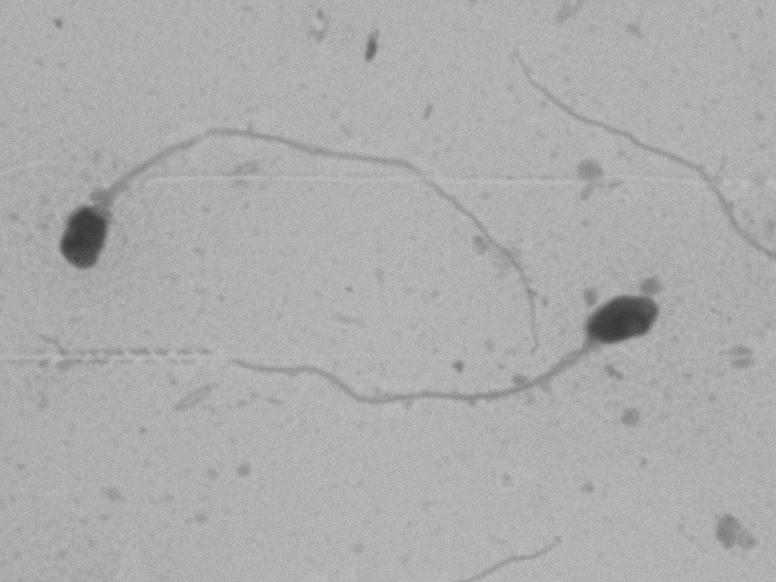Abnormal: (40, 104, 550, 334), (216, 270, 671, 434)
